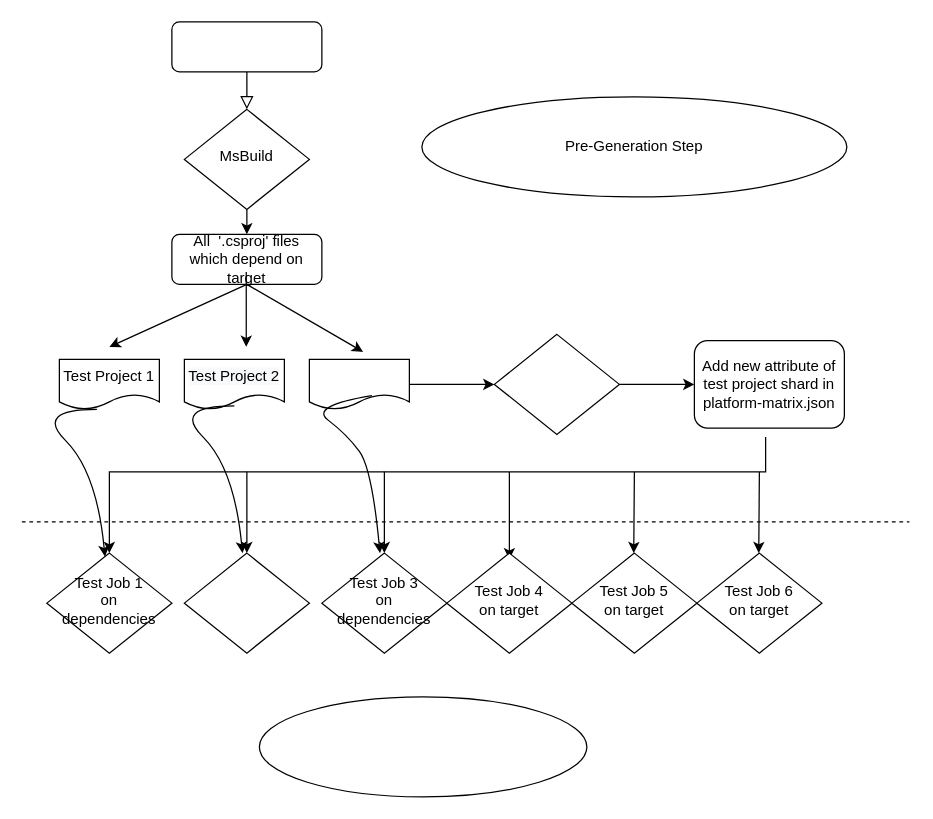
The diagram is 933 pixels wide and 819 high, and some of its shapes have lost their labels. Each missing label, with the centre of its shape:
"Job-Matrix" goes at pixel 556 383.
"Target package (e.g. core)" goes at pixel 246 46.
"Test Job 2 on dependencies" goes at pixel 246 602.
"Test Project 3" goes at pixel 358 383.
"Test Step" goes at pixel 422 746.
